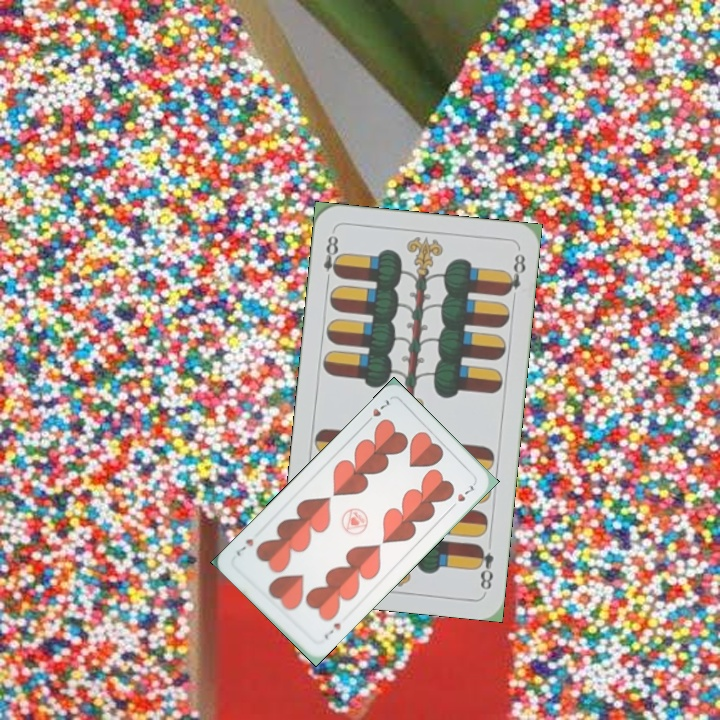E8: (319, 231, 344, 287), (472, 540, 496, 592)
H7: (361, 395, 392, 427), (320, 619, 343, 642)
